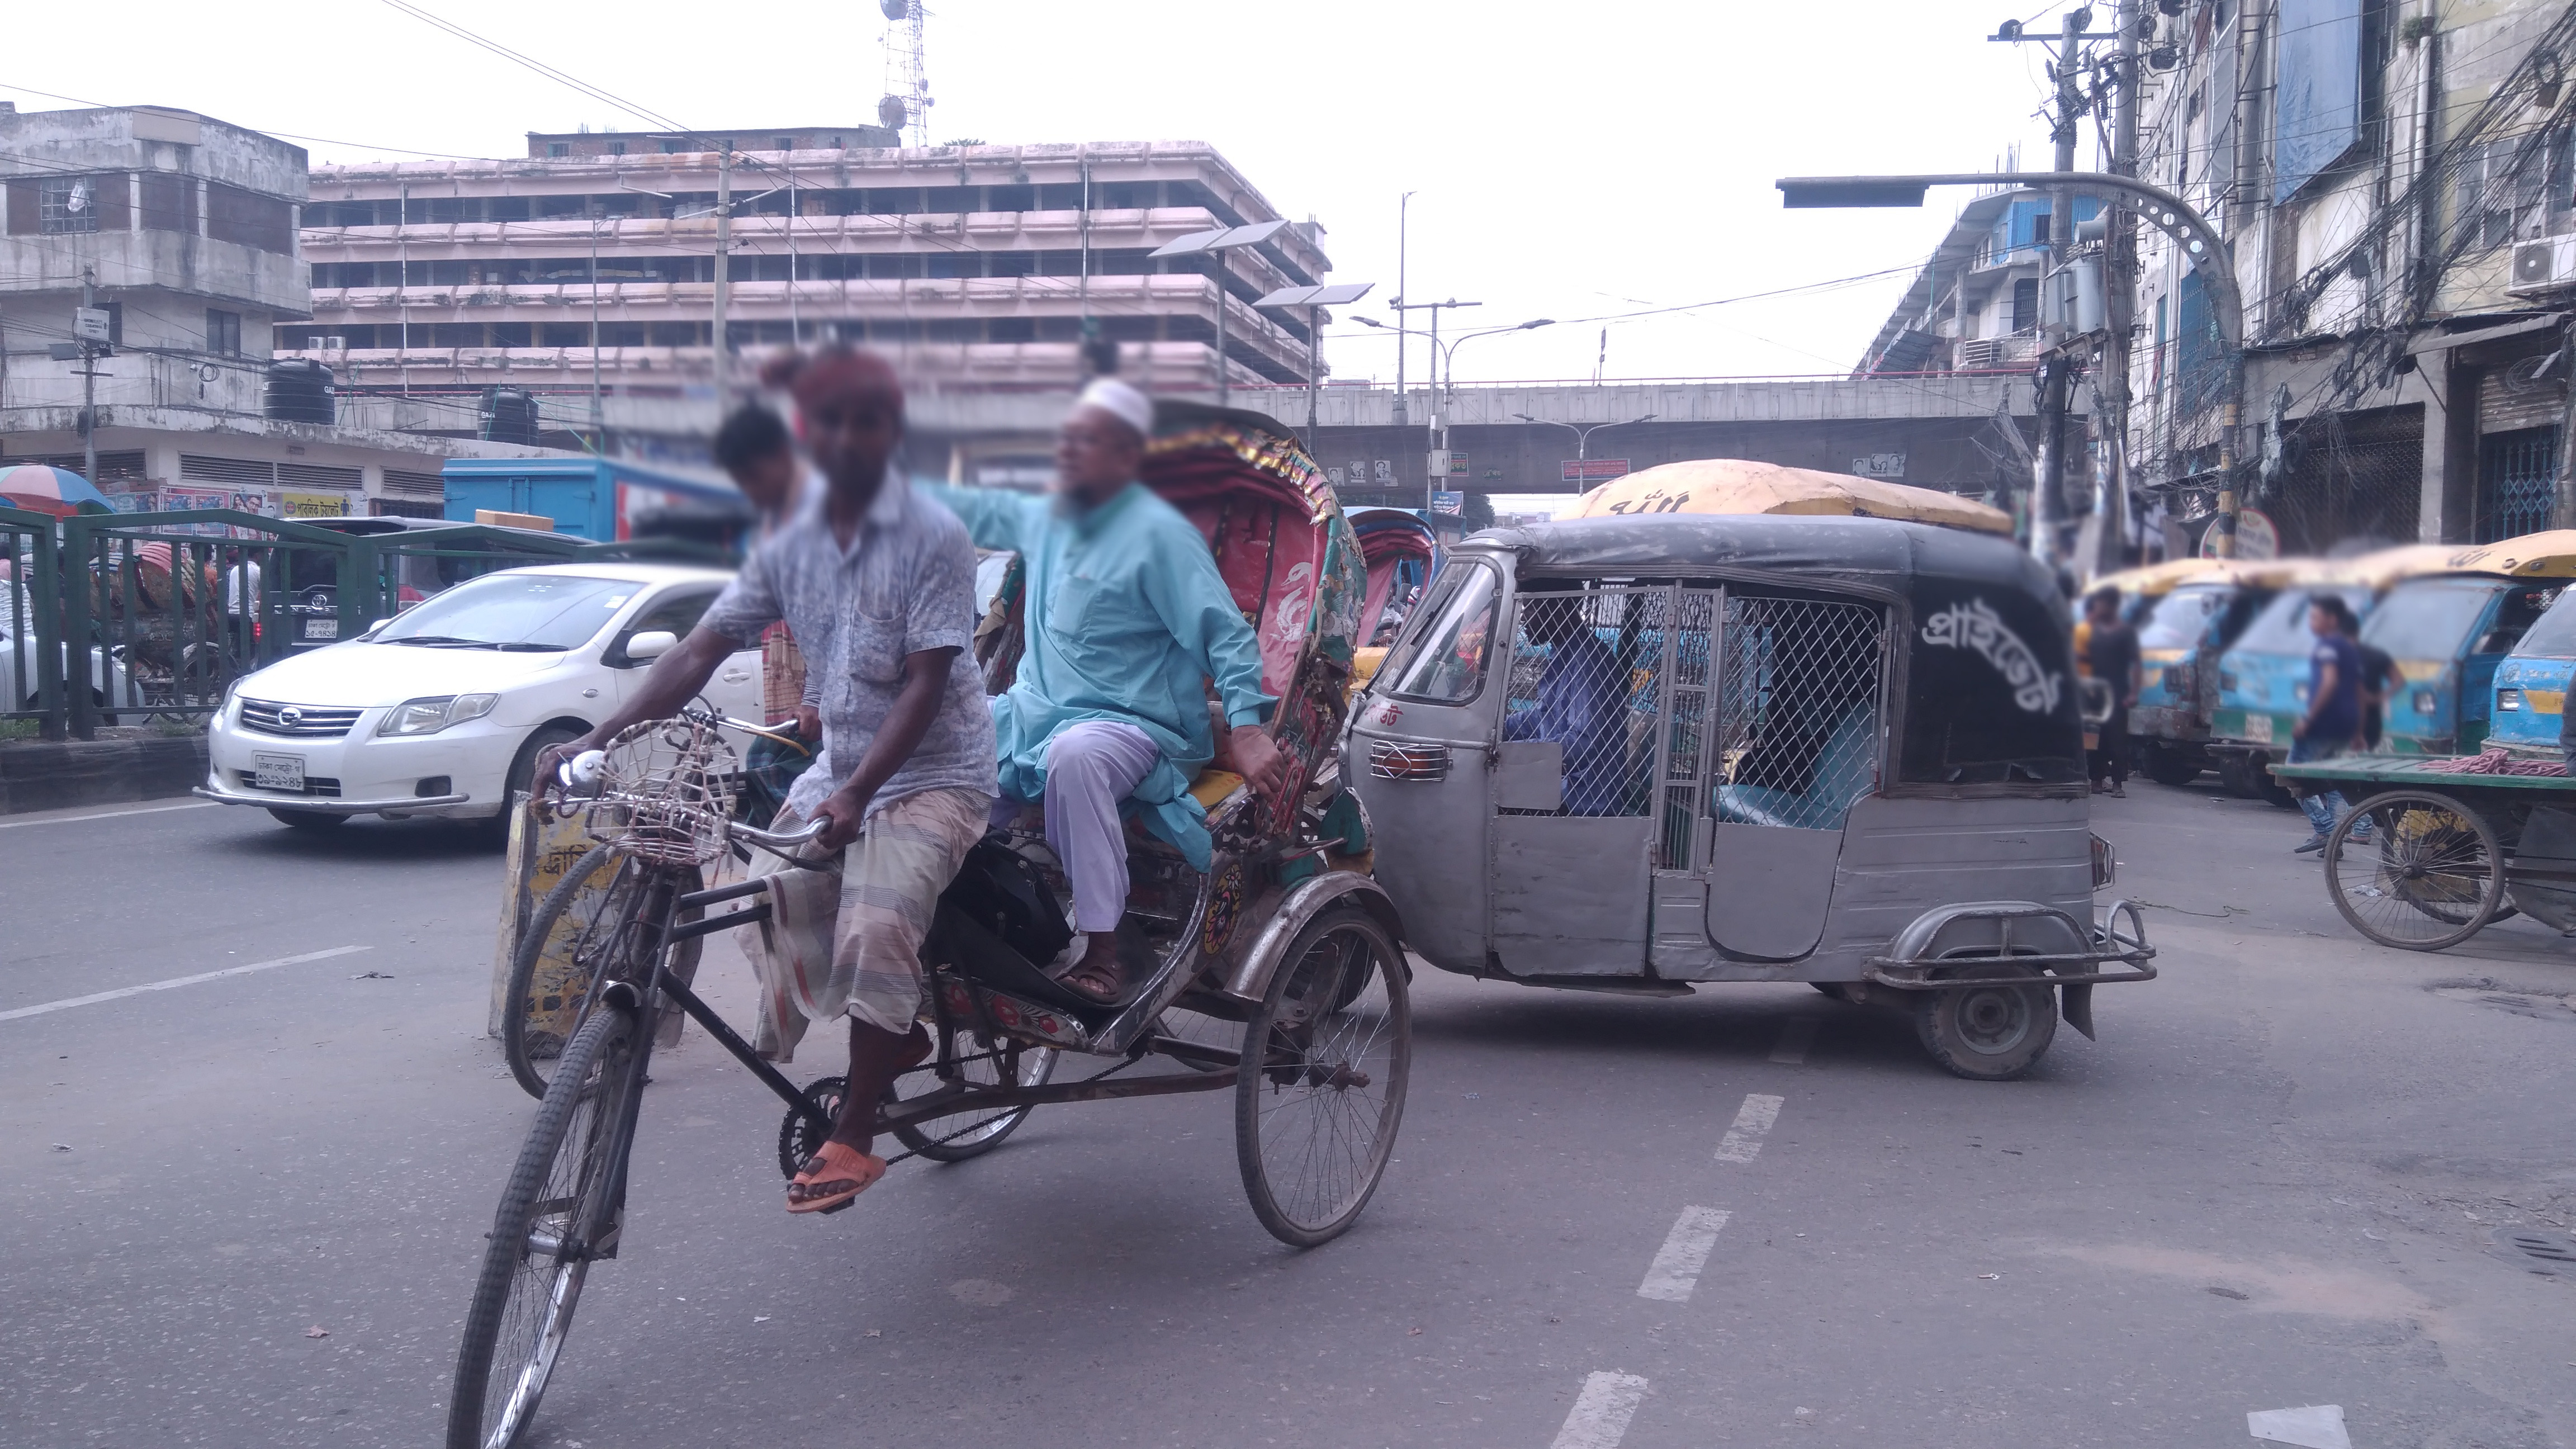car: (195, 556, 778, 885)
cng: (1345, 476, 2146, 1086)
leguna: (2371, 529, 2576, 757), (2201, 543, 2371, 794), (2496, 538, 2576, 761)
rickshaw: (446, 402, 1414, 1449), (1311, 467, 1454, 747)
